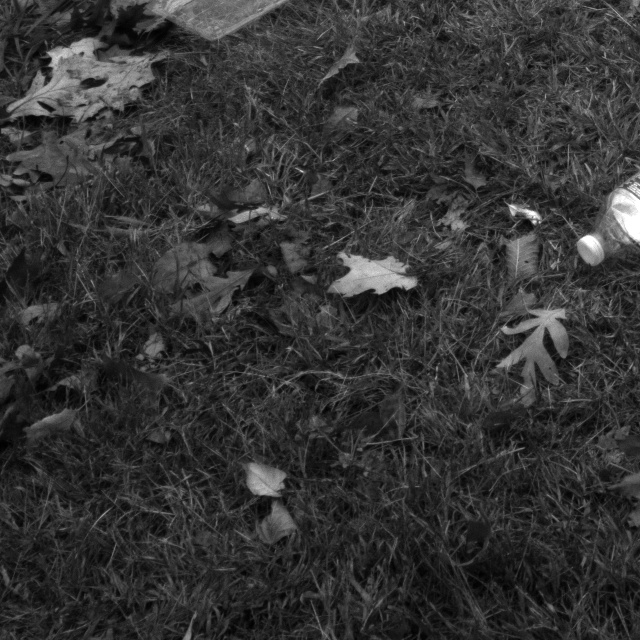bottle: (539, 84, 640, 270)
